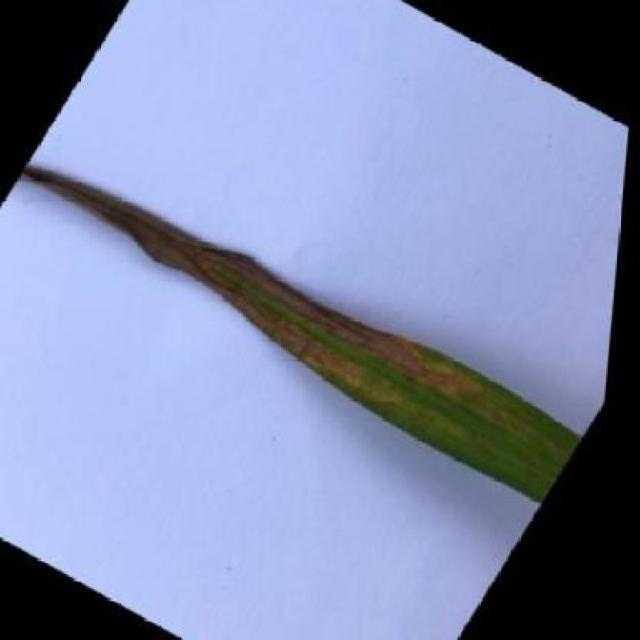Rice False Smut: (0, 128, 615, 513)
